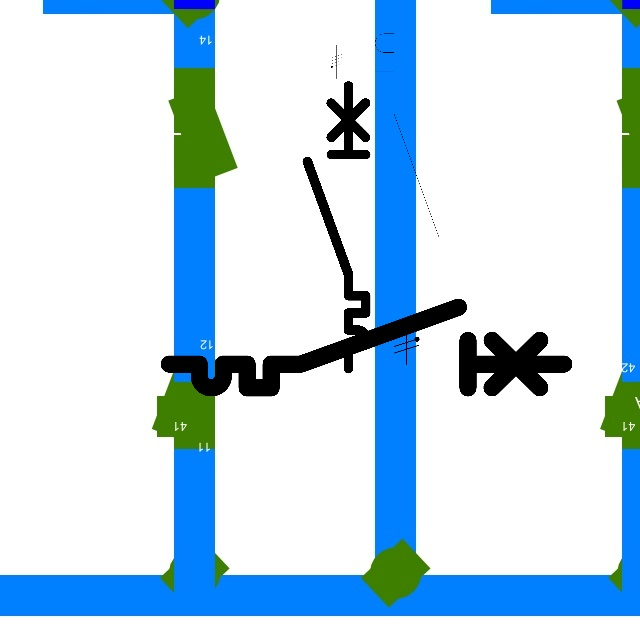interruptor_termomagnetico: (159, 297, 574, 398), (367, 2, 447, 328), (300, 78, 373, 376)
